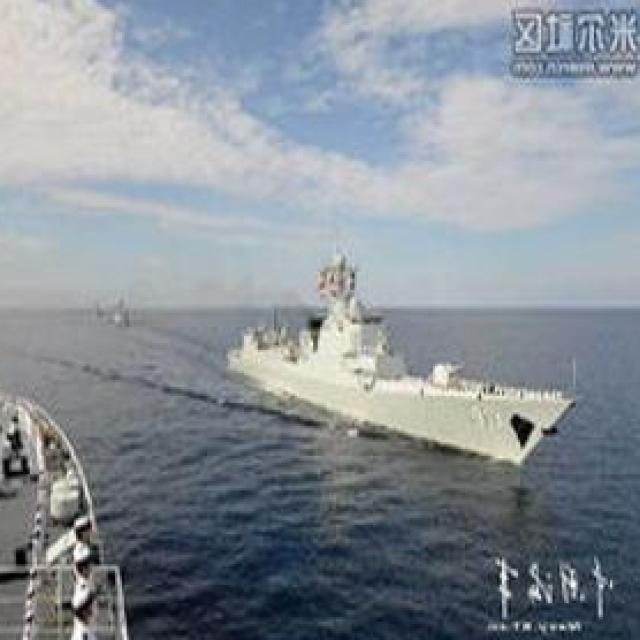navalvessels: (218, 244, 577, 470), (0, 380, 136, 640)
